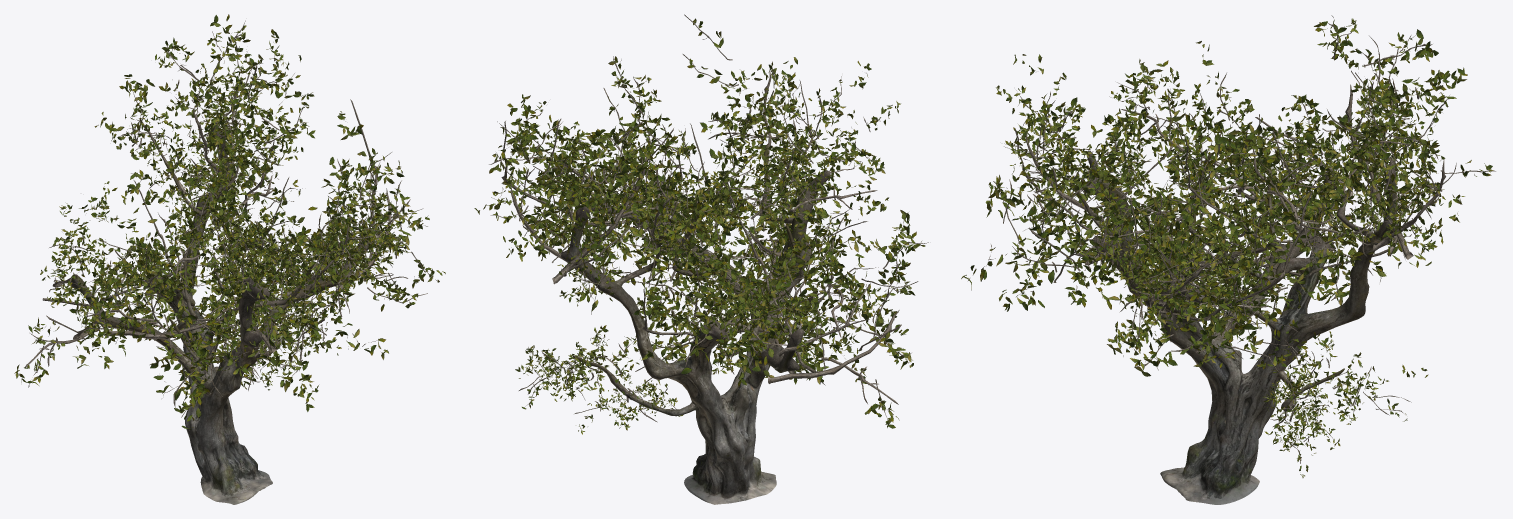
The model's file is island_tree_01.glb.
The picture shows the model from 3 angles, left to right: view 1: azimuth 30°, elevation 25°; view 2: azimuth 150°, elevation 25°; view 3: azimuth 270°, elevation 25°; orthographic projection. The views are drawn at different scales.
Parts seen in each view (by area): view 1: island_tree_01_LOD0; view 2: island_tree_01_LOD0; view 3: island_tree_01_LOD0.
Boxes of the visible parts, x1,y1,x2,y2 form: island_tree_01_LOD0: [14, 14, 445, 504]; island_tree_01_LOD0: [474, 14, 928, 504]; island_tree_01_LOD0: [961, 15, 1495, 504].
Bounding box in the file's own units: 4.76 × 5 × 4.88.
3 materials, 3 textured.
